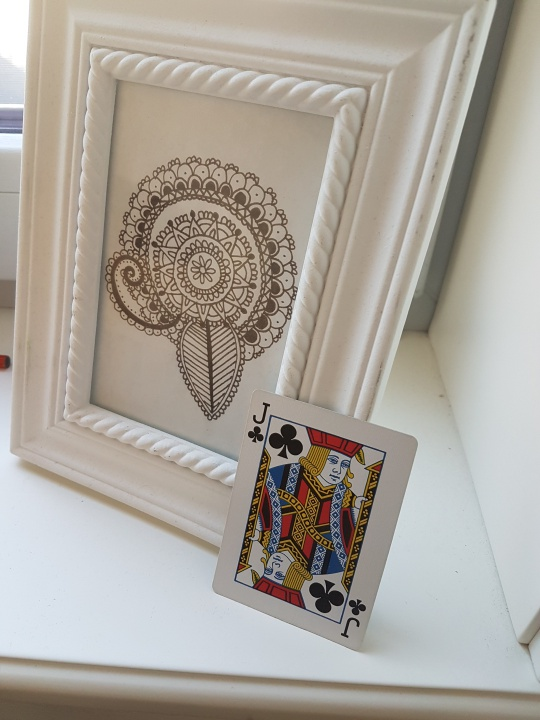jack: (191, 385, 422, 647)
